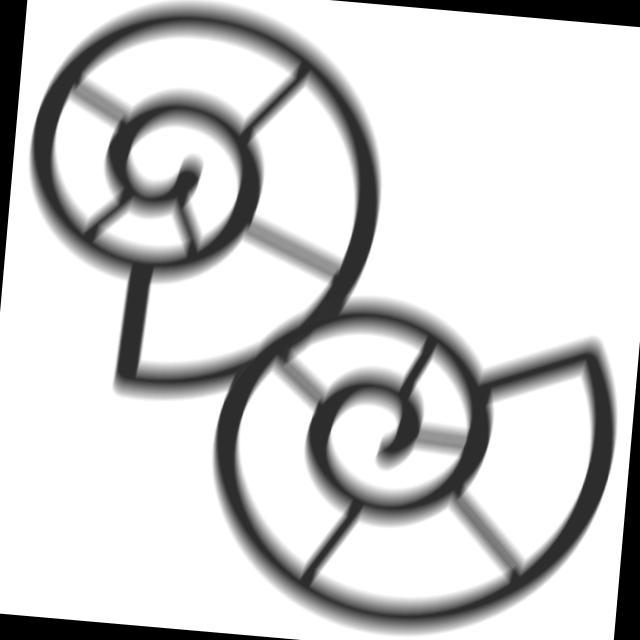fossil: (1, 1, 407, 422), (194, 282, 633, 640)
